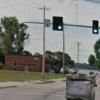Traffic light: (44, 9, 69, 34)
